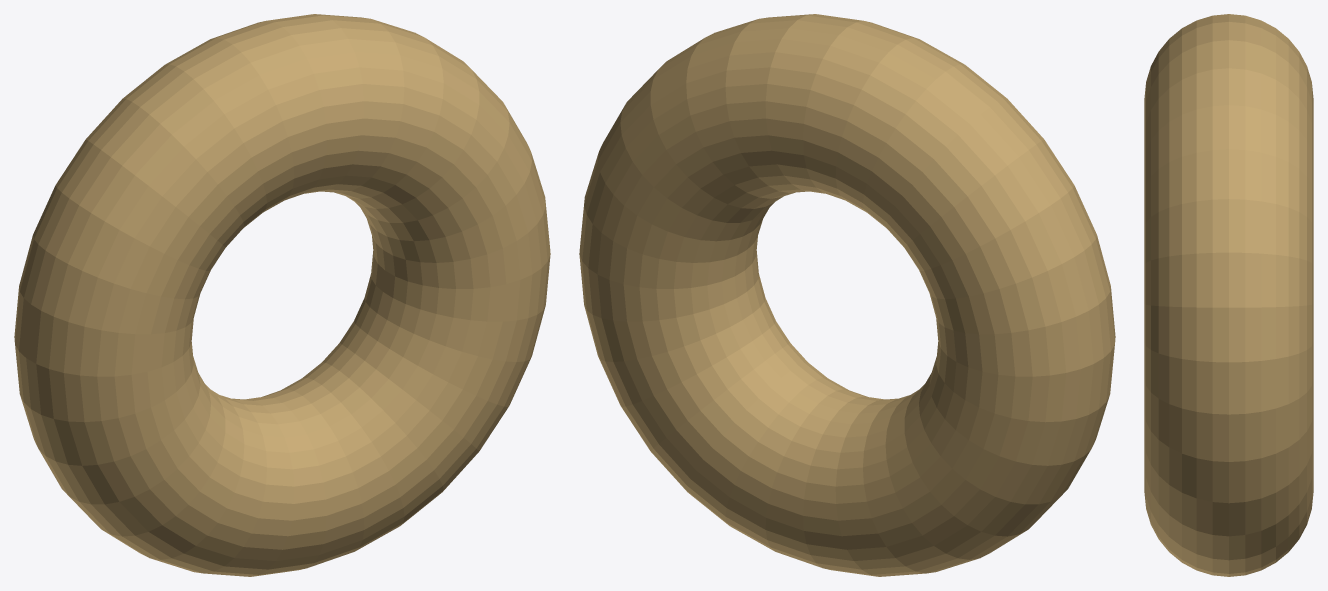
File: donut.glb
The picture shows the model from 3 angles, left to right: view 1: azimuth 30°, elevation 25°; view 2: azimuth 150°, elevation 25°; view 3: azimuth 270°, elevation 25°; orthographic projection. The views are drawn at different scales.
Visible parts, largest first — view 1: geometry_0; view 2: geometry_0; view 3: geometry_0.
Boxes of the visible parts, <box> form: geometry_0: <box>14,14,550,576</box>; geometry_0: <box>579,14,1115,576</box>; geometry_0: <box>1144,14,1313,576</box>.
Size of the model in its own units: 1 by 1 by 0.3.
